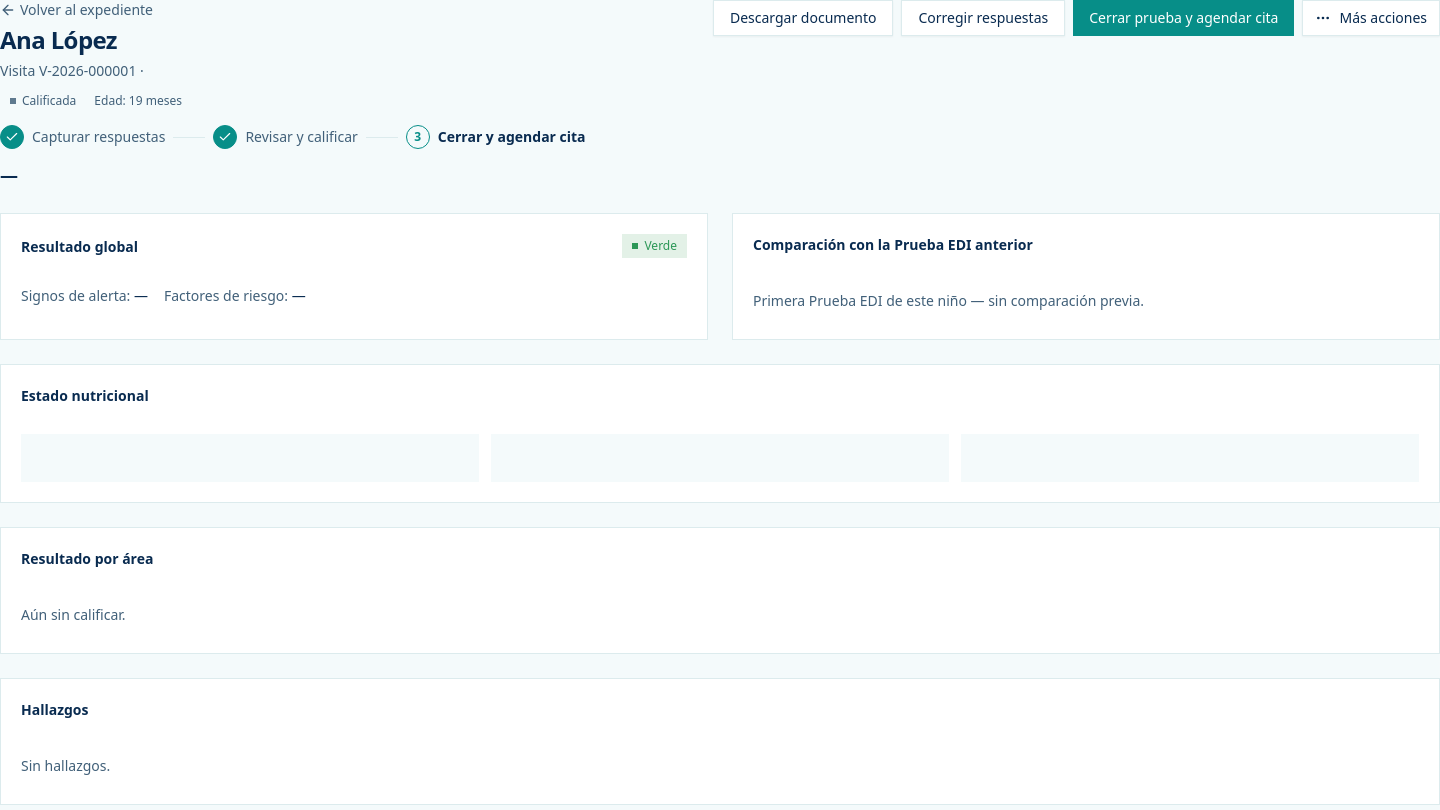
Test: ScreeningDetail — actions by state › scored: correcting answers warns that the test must be scored again
The width and height of the screenshot is (1440, 810).
Click the button "Corregir respuestas" at (983,18), box [902,0,1065,36]
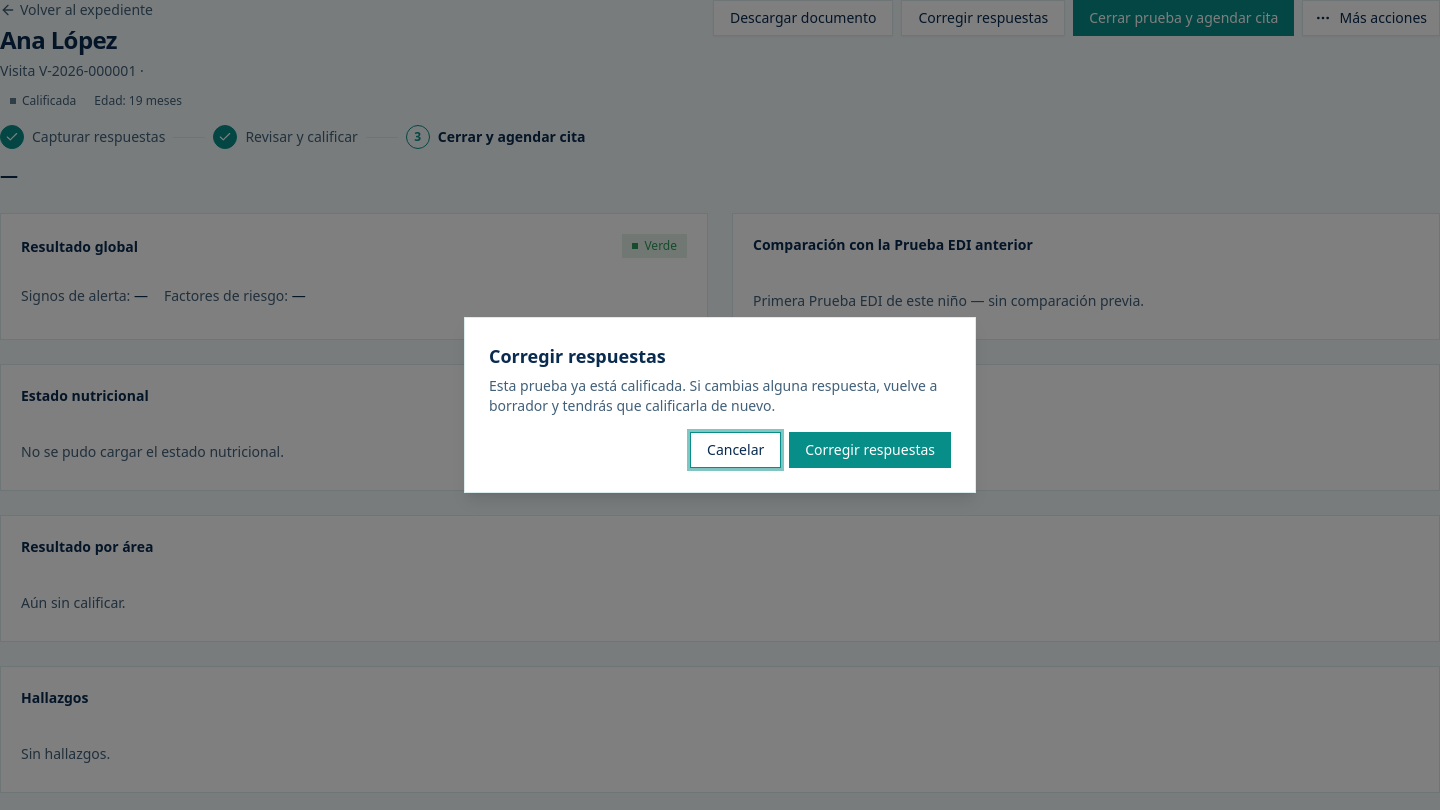
expect the text "tendrás que calificarla de nuevo" is shown: met, box [489,376,938,415]
